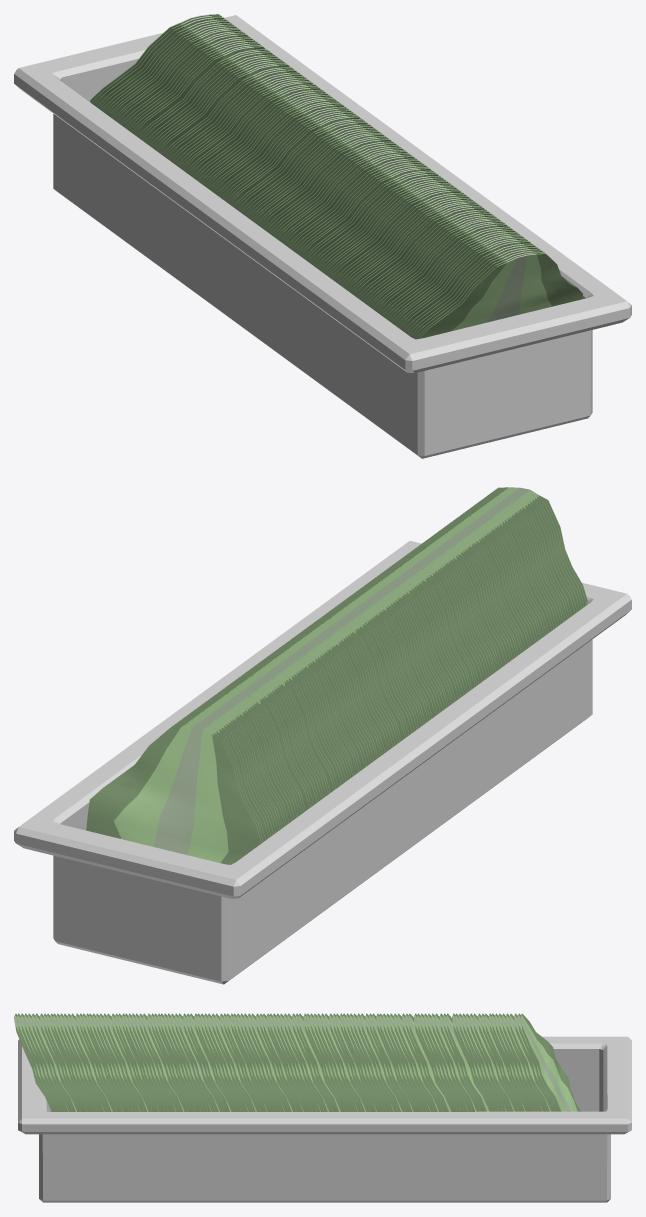
The model's file is hotelPanLettuce.fbx.
3 views of the same model, one above another, from view 1: azimuth 30°, elevation 25°; view 2: azimuth 150°, elevation 25°; view 3: azimuth 270°, elevation 25° (orthographic). The views are drawn at different scales.
Visible parts, largest first — view 1: hotelPanLettuce; view 2: hotelPanLettuce; view 3: hotelPanLettuce.
Part boxes in pixels (x1=…): hotelPanLettuce: x1=14, y1=14, x2=631, y2=458; hotelPanLettuce: x1=14, y1=487, x2=631, y2=984; hotelPanLettuce: x1=14, y1=1013, x2=631, y2=1202.
Size of the model in its own units: 16.5 by 13.67 by 50.33.
